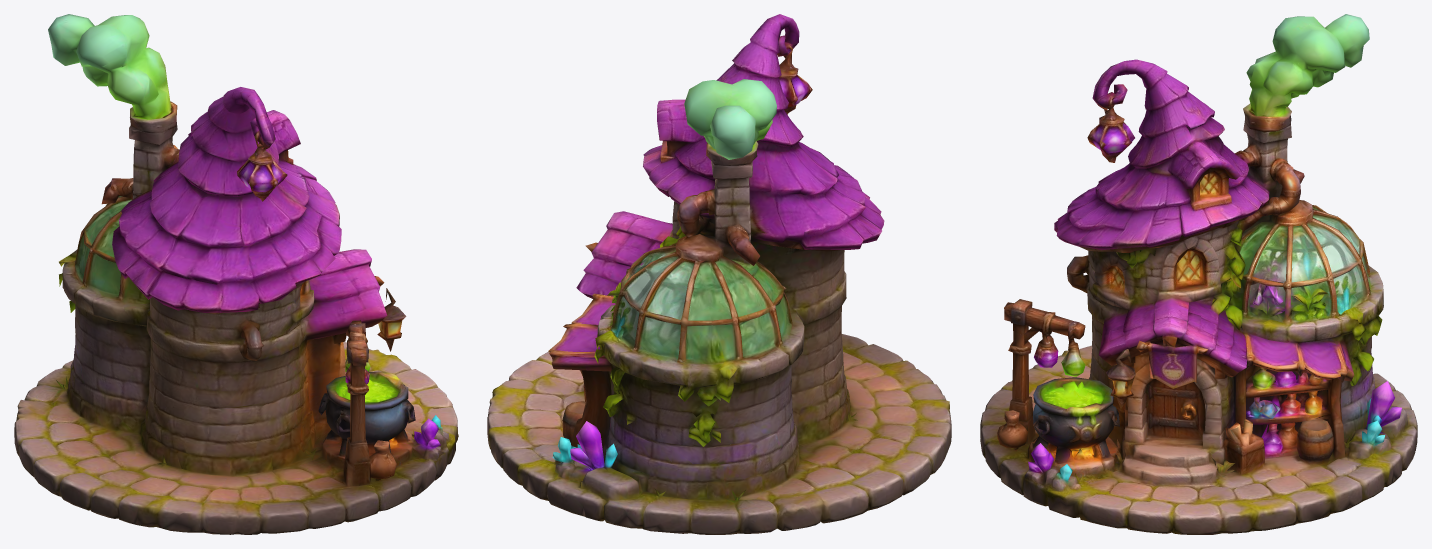
File: potion.glb
3 renders of one model, left to right at view 1: azimuth 30°, elevation 25°; view 2: azimuth 150°, elevation 25°; view 3: azimuth 270°, elevation 25°, orthographic. The views are drawn at different scales.
Visible parts, largest first — view 1: tripo_node_e9ca61c4-9e5e-4dfa-9e78-42b484a0bf09; view 2: tripo_node_e9ca61c4-9e5e-4dfa-9e78-42b484a0bf09; view 3: tripo_node_e9ca61c4-9e5e-4dfa-9e78-42b484a0bf09.
Part boxes in pixels (bbox=[...]): tripo_node_e9ca61c4-9e5e-4dfa-9e78-42b484a0bf09: bbox=[14, 14, 458, 534]; tripo_node_e9ca61c4-9e5e-4dfa-9e78-42b484a0bf09: bbox=[487, 14, 951, 534]; tripo_node_e9ca61c4-9e5e-4dfa-9e78-42b484a0bf09: bbox=[980, 14, 1417, 534].
Bounding box in the file's own units: 0.9958 × 0.9792 × 1.
Materials: 1 (1 with a texture image).
